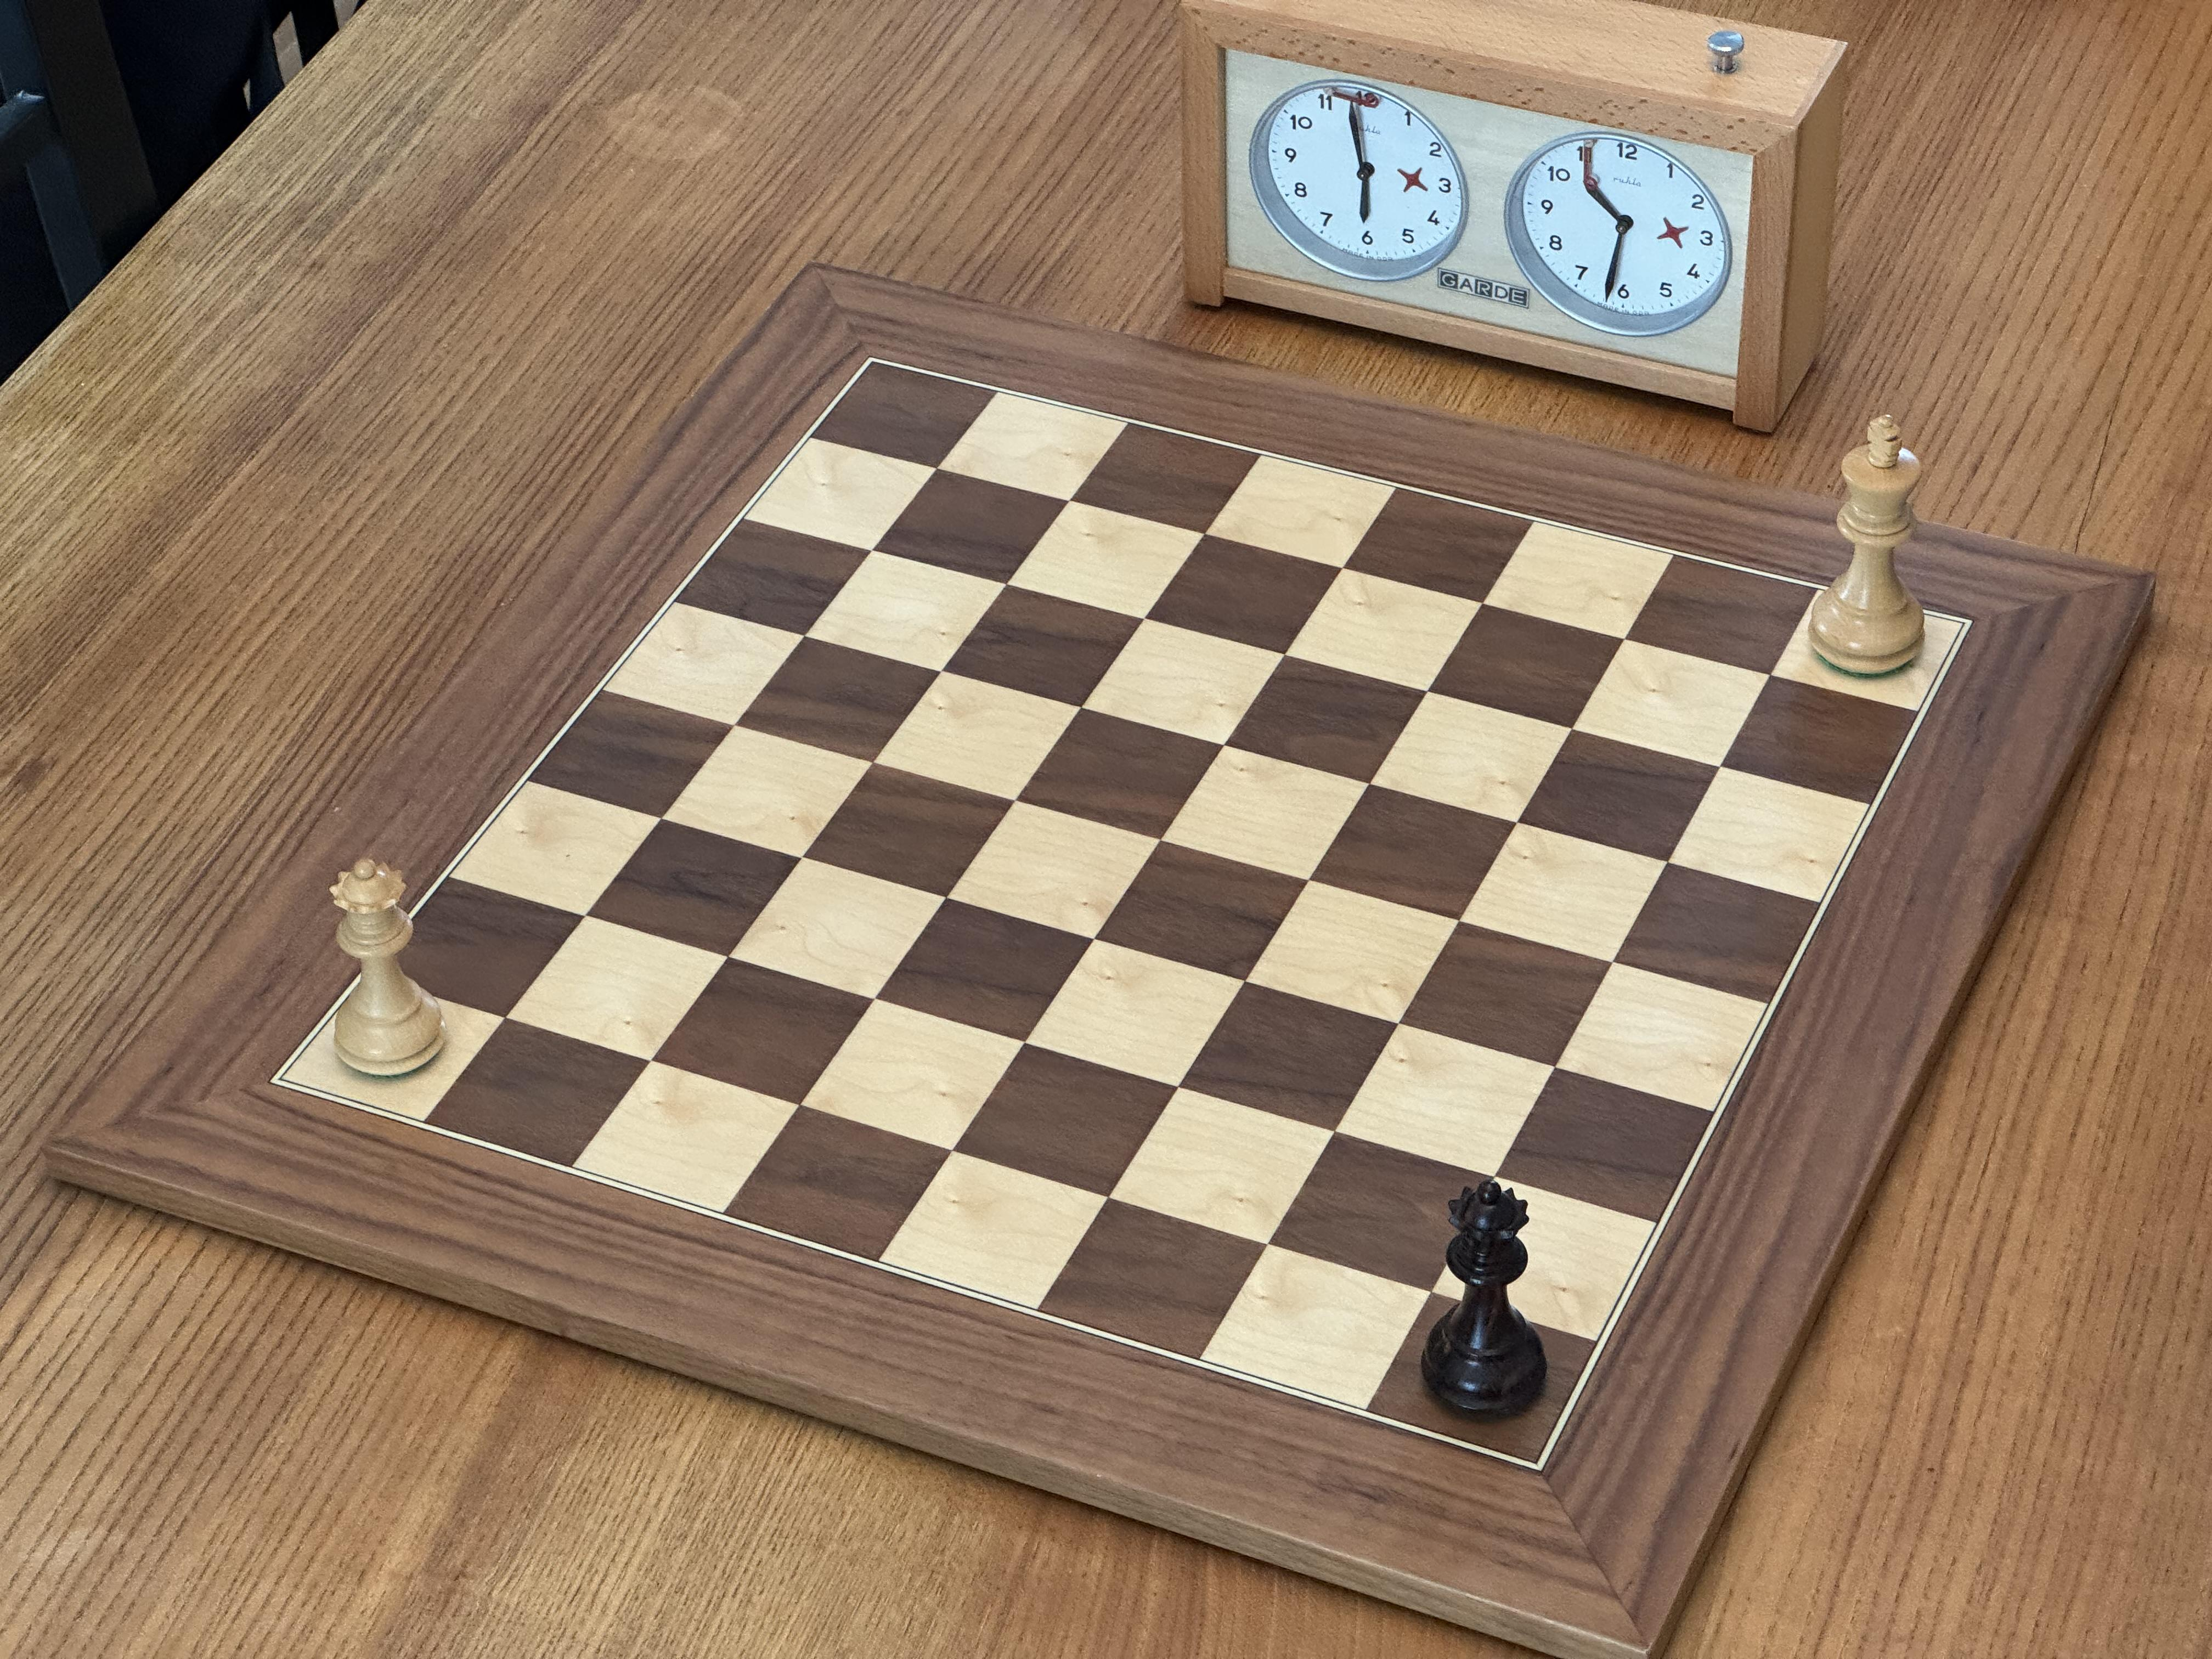corner A: (186, 997, 355, 1164)
corner B: (1453, 1377, 1641, 1563)
corner C: (1890, 540, 2054, 711)
